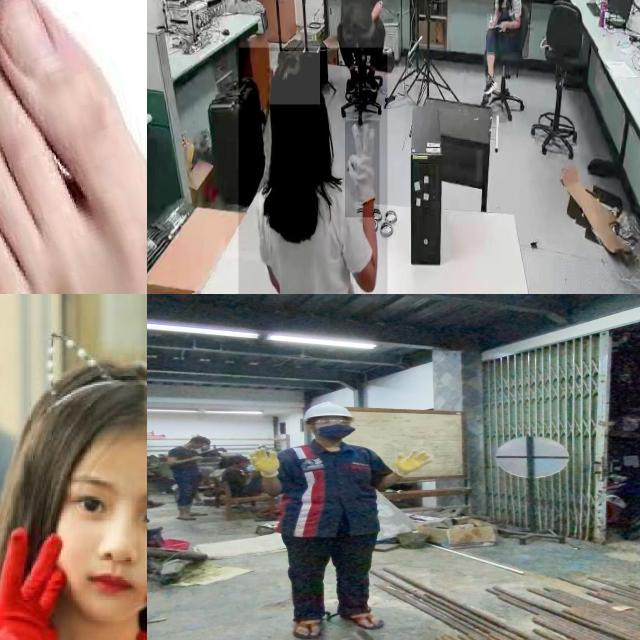Barefoots: (0, 0, 147, 294)
No_Glasses: (68, 477, 147, 548)
face_mask: (312, 416, 354, 440)
face_nomask: (59, 453, 147, 602), (192, 443, 208, 450)
glasses: (307, 417, 353, 427)
hand_glove: (0, 527, 70, 640), (345, 120, 379, 218), (246, 447, 283, 476), (393, 449, 433, 473)
hand_noglove: (487, 14, 497, 29), (498, 19, 508, 31), (191, 454, 206, 462)
head_helmet: (303, 401, 353, 418)
head_nohelmet: (8, 339, 147, 473), (270, 51, 320, 105), (191, 434, 212, 444)
person: (244, 399, 438, 640), (0, 330, 147, 640), (238, 47, 387, 294), (164, 434, 220, 524), (482, 0, 527, 98), (341, 0, 388, 79)
shoes: (364, 64, 381, 96), (344, 67, 360, 93), (482, 73, 498, 99)
